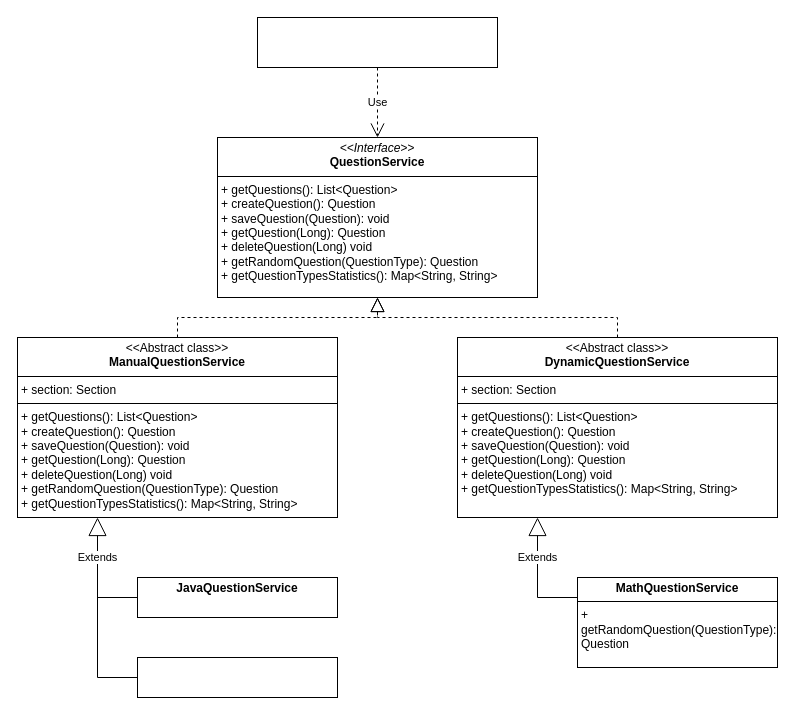
Image size: 795x715. Some labels were removed from this diagram. The shapes that lost their labels are listed below. From the top down, each one's centre as x and y in pixels, then its label:
At (x=377, y=42): "QuestionController".
At (x=237, y=677): "SpringQuestionService".
